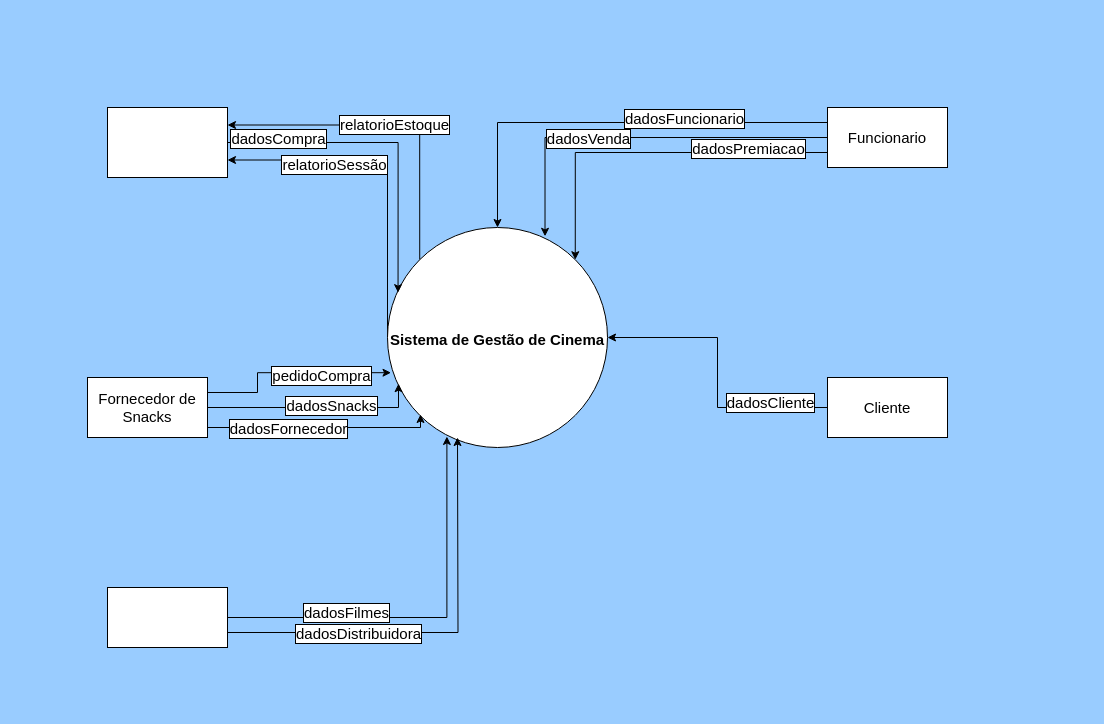
Image size: 1104x724. Some labels were removed from this diagram. Each missing label, with the centre of its shape:
"Distribuidora de filmes" goes at (x=167, y=617).
"Gerente" goes at (x=167, y=142).
